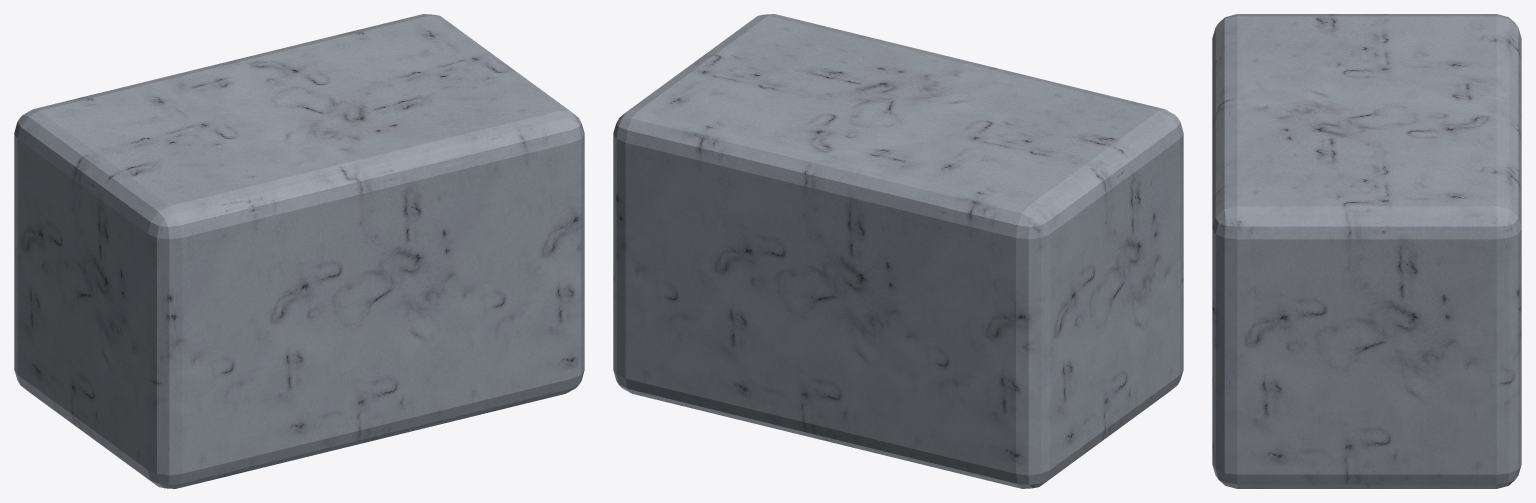
The model's file is block.glb.
3 views of the same model, side by side, from view 1: azimuth 30°, elevation 25°; view 2: azimuth 150°, elevation 25°; view 3: azimuth 270°, elevation 25° (orthographic).
Parts seen in each view (by area): view 1: block; view 2: block; view 3: block.
Boxes of the visible parts, bbox=[...] form: block: bbox=[14, 14, 584, 488]; block: bbox=[613, 14, 1183, 488]; block: bbox=[1212, 14, 1521, 488].
Bounding box in the file's own units: 1 × 0.62 × 0.62.
1 material, 1 textured.
